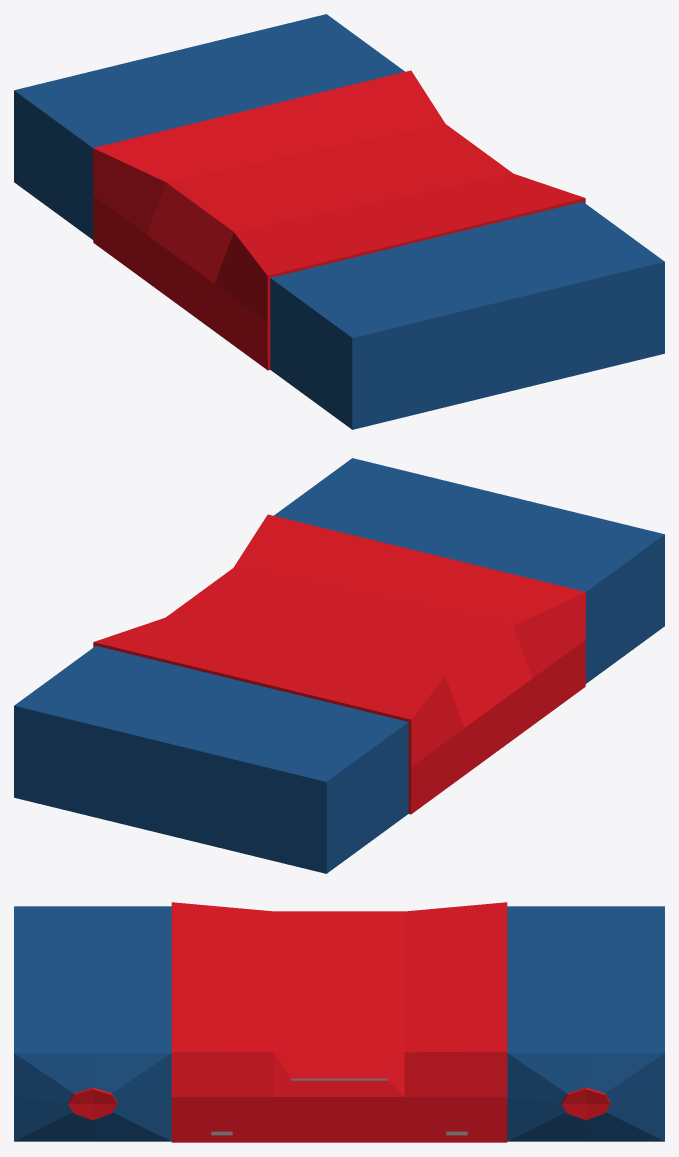
File: Console.fbx
3 renders of one model, top to bottom at view 1: azimuth 30°, elevation 25°; view 2: azimuth 150°, elevation 25°; view 3: azimuth 270°, elevation 25°, orthographic. The views are drawn at different scales.
Visible parts, largest first — view 1: Console; view 2: Console; view 3: Console.
Boxes of the visible parts, left/top/right/bottom form: Console: left=14, top=14, right=664, bottom=429; Console: left=14, top=458, right=664, bottom=873; Console: left=14, top=902, right=664, bottom=1142.
Bounding box in the file's own units: 707 × 1254 × 194.
